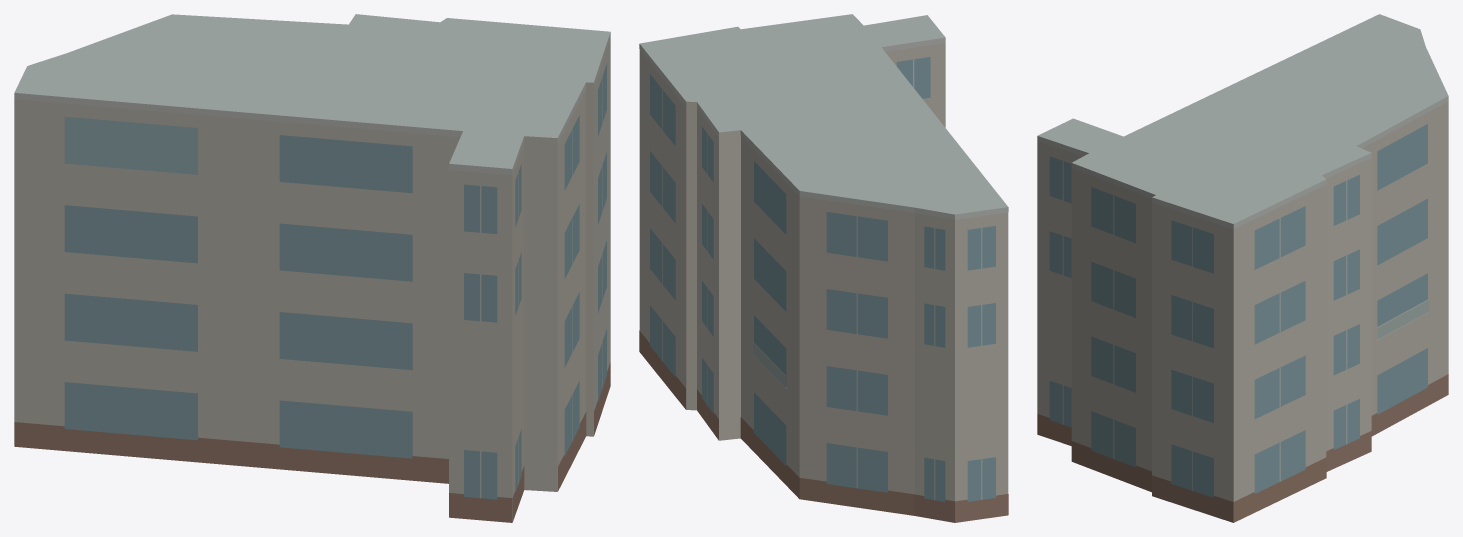
File: survey-upis-32777063.glb
3 renders of one model, left to right at view 1: azimuth 30°, elevation 25°; view 2: azimuth 150°, elevation 25°; view 3: azimuth 270°, elevation 25°, orthographic. The views are drawn at different scales.
Parts seen in each view (by area): view 1: survey-upis-32777063.tmp; view 2: survey-upis-32777063.tmp; view 3: survey-upis-32777063.tmp.
Boxes of the visible parts, box(x1,y1,x2,y2) form: survey-upis-32777063.tmp: box(14, 14, 610, 522); survey-upis-32777063.tmp: box(639, 14, 1008, 522); survey-upis-32777063.tmp: box(1037, 14, 1448, 522).
Size of the model in its own units: 20.97 by 13.9 by 17.35.
